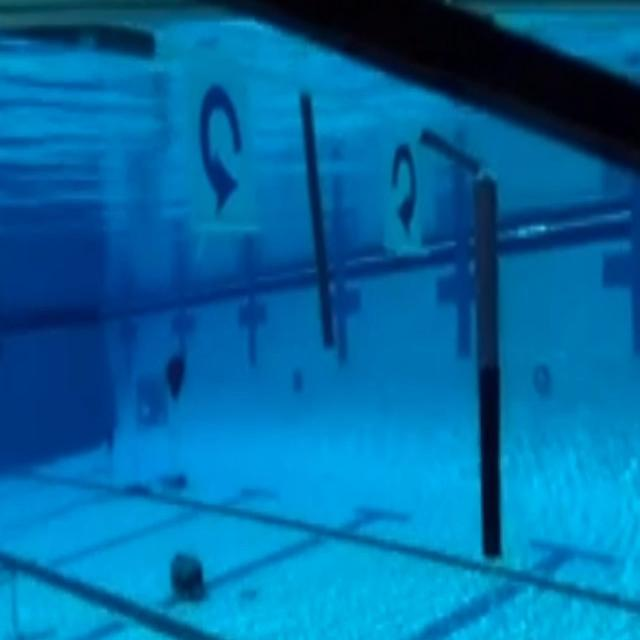Gate: (150, 30, 504, 598)
